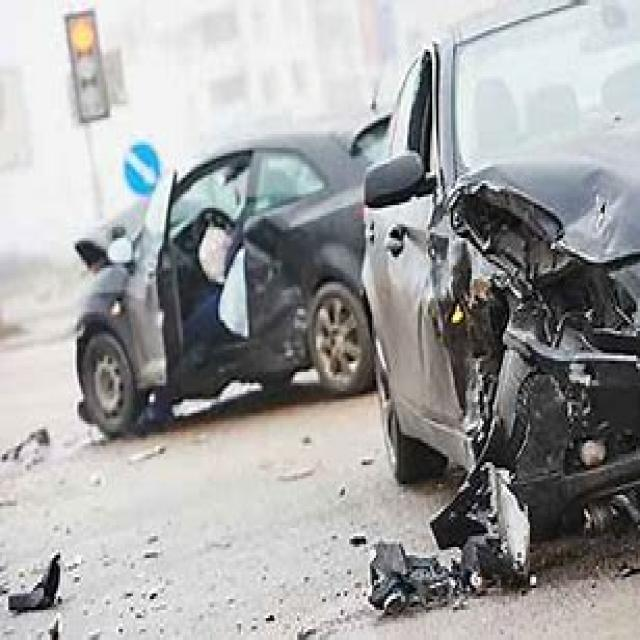Accident: (99, 93, 640, 628)
